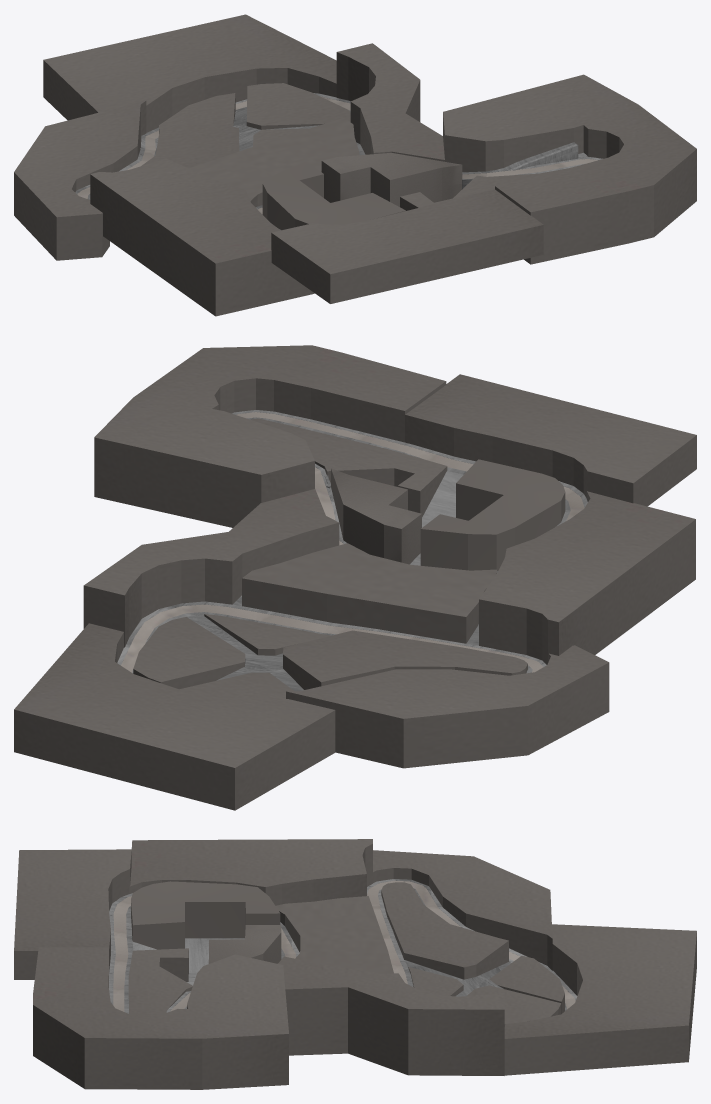
File: cITY.glb
3 views of the same model, one above another, from view 1: azimuth 30°, elevation 25°; view 2: azimuth 150°, elevation 25°; view 3: azimuth 270°, elevation 25° (orthographic). The views are drawn at different scales.
Parts seen in each view (by area): view 1: Plane.009, Plane.007, Plane.012, Plane.008, Plane.011, Plane.010, Plane.015, Plane.002, Plane.013, Plane.004, Plane.003, Plane.006 (+6 smaller); view 2: Plane.009, Plane.012, Plane.007, Plane.011, Plane.008, Plane.010, Plane.002, Plane.013, Plane.003, Plane.015, Plane.014, Plane.004 (+6 smaller); view 3: Plane.009, Plane.012, Plane.010, Plane.007, Plane.008, Plane.011, Plane.013, Plane.003, Plane.002, Plane.014, Plane, Plane.001 (+6 smaller).
Boxes of the visible parts, x1,y1,x2,y2 form: Plane.009: [443, 74, 696, 264]; Plane.007: [90, 158, 314, 316]; Plane.012: [43, 14, 336, 132]; Plane.008: [271, 189, 543, 303]; Plane.011: [14, 100, 146, 260]; Plane.010: [336, 43, 445, 161]; Plane.015: [321, 153, 462, 206]; Plane.002: [189, 118, 359, 207]; Plane.013: [262, 161, 405, 230]; Plane.004: [246, 83, 350, 129]; Plane.003: [141, 125, 239, 168]; Plane.006: [159, 93, 235, 133]; Plane.009: [94, 345, 446, 527]; Plane.012: [14, 623, 335, 810]; Plane.007: [479, 491, 695, 664]; Plane.011: [286, 645, 609, 768]; Plane.008: [405, 374, 696, 506]; Plane.010: [83, 489, 339, 647]; Plane.002: [242, 543, 496, 643]; Plane.013: [420, 459, 565, 571]; Plane.003: [283, 630, 527, 689]; Plane.015: [331, 468, 421, 564]; Plane.014: [251, 418, 447, 516]; Plane.004: [133, 617, 245, 689]; Plane.009: [33, 947, 288, 1089]; Plane.012: [504, 924, 696, 1075]; Plane.010: [277, 956, 504, 1075]; Plane.007: [129, 839, 372, 905]; Plane.008: [14, 849, 131, 979]; Plane.011: [373, 850, 552, 970]; Plane.013: [131, 881, 280, 949]; Plane.003: [381, 882, 508, 979]; Plane.002: [276, 896, 393, 973]; Plane.014: [128, 948, 192, 1015]; Plane: [109, 893, 299, 1013]; Plane.001: [367, 879, 577, 1010].
Bounding box in the file's own units: 357 × 64.43 × 432.
Materials: 3 (3 with a texture image).
